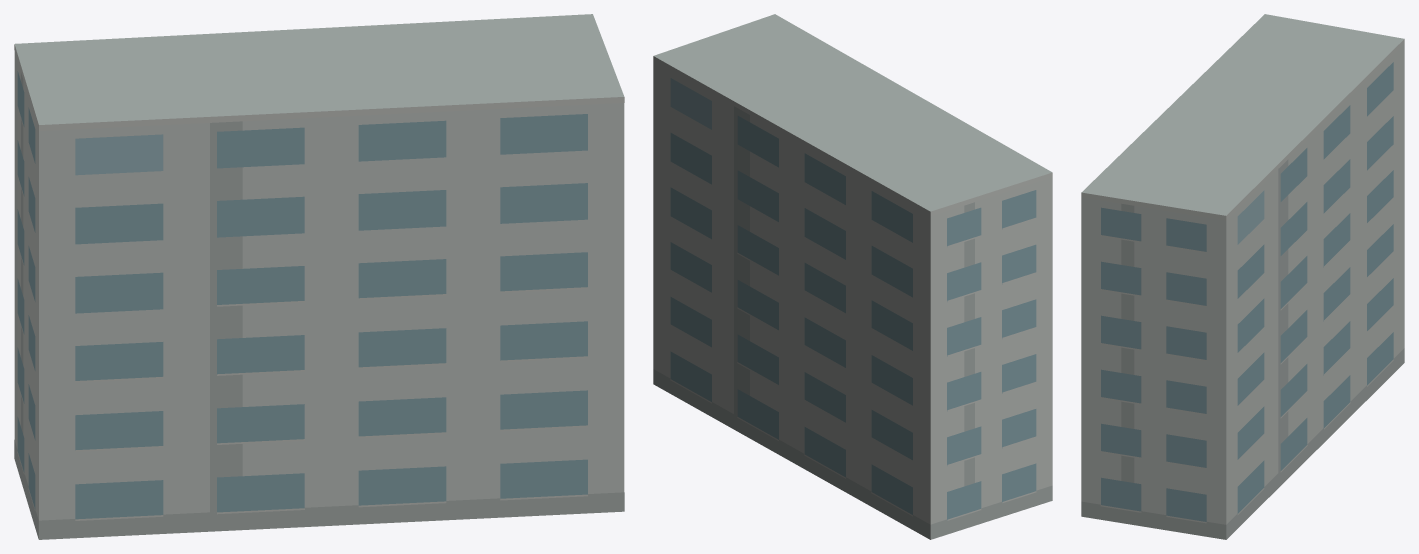
File: survey-upis-32869790.glb
3 renders of one model, left to right at view 1: azimuth 30°, elevation 25°; view 2: azimuth 150°, elevation 25°; view 3: azimuth 270°, elevation 25°, orthographic. The views are drawn at different scales.
Visible parts, largest first — view 1: survey-upis-32869790.tmp; view 2: survey-upis-32869790.tmp; view 3: survey-upis-32869790.tmp.
Part boxes in pixels (left/top/right/bottom): survey-upis-32869790.tmp: left=14, top=14, right=624, bottom=539; survey-upis-32869790.tmp: left=653, top=14, right=1052, bottom=539; survey-upis-32869790.tmp: left=1081, top=14, right=1404, bottom=539.
Bounding box in the file's own units: 22.18 × 16.6 × 15.01.
